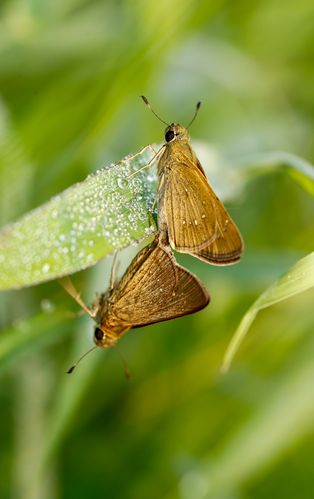Hesperiidae: (125, 96, 248, 268), (60, 244, 213, 378)
